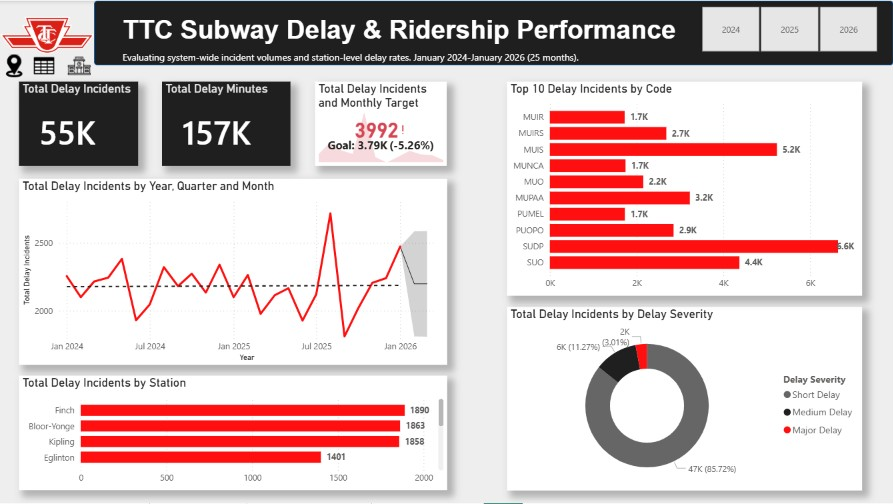

The page's visual inventory and layout, read from the dashboard file:
{"tool":"powerbi","page":{"name":"TTC Delays Dashboard","canvas":[1280,720],"ordinal":0},"visuals":[{"type":"image","box":[0,0,135,99.3],"z":0},{"type":"shape","box":[135,0,1145.1,92.7],"z":1000},{"type":"textbox","box":[170.8,13.9,808.1,65.5],"z":2000},{"type":"textbox","box":[170.8,65.5,734.7,27.8],"z":3000},{"type":"slicer","fields":{"Values":["Dim_Calendar.Year"]},"box":[979.2,1.6,300.9,78.1],"z":4000},{"type":"cardVisual","title":"Total Delay Incidents","fields":{"Data":["_Measure Table.Total Delay Incidents"]},"box":[27.7,115.5,170.8,120.4],"z":5000},{"type":"cardVisual","title":"Total Delay Minutes","fields":{"Data":["_Measure Table.Total Delay Minutes"]},"box":[232.6,115.5,183.8,120.4],"z":6000},{"type":"kpi","title":"Total Delay Incidents and Monthly Target ","fields":{"Goal":["_Measure Table.Monthly Target Delays"],"Indicator":["_Measure Table.Total Delay Incidents"],"TrendLine":["Dim_Calendar.Month Name"]},"box":[450.6,115.5,188.7,120.4],"z":7000},{"type":"lineChart","fields":{"Category":["Dim_Calendar.Start of Month"],"Y":["_Measure Table.Total Delay Incidents"]},"box":[27.7,255.4,613.2,266.8],"z":8000},{"type":"clusteredBarChart","fields":{"Category":["Dim_Stations.Station"],"Y":["_Measure Table.Total Delay Incidents"]},"box":[27.7,536.8,613.2,164.3],"z":9000},{"type":"donutChart","fields":{"Category":["Fact_TTC_Delays.Delay Severity"],"Y":["_Measure Table.Total Delay Incidents"]},"box":[726.2,438.3,508.5,263.6],"z":10000},{"type":"clusteredBarChart","title":"Top 10 Delay Incidents by Code","fields":{"Category":["Fact_TTC_Delays.Code"],"Y":["_Measure Table.Total Delay Incidents"]},"box":[726.2,116,508.5,306.5],"z":11000},{"type":"actionButton","box":[3.3,74.8,50.4,34.2],"z":14000},{"type":"actionButton","box":[84.6,73.2,86.2,35.8],"z":14001}]}

Visuals, with their boxes in screenshot pixels (x1, y1, x2, y2), scaled from the page's 1280x720 canvas onto the 893x504 screenshot:
image: pyautogui.locateOnScreen(0, 0, 94, 70)
shape: pyautogui.locateOnScreen(94, 0, 892, 65)
textbox: pyautogui.locateOnScreen(119, 10, 683, 56)
textbox: pyautogui.locateOnScreen(119, 46, 632, 65)
slicer - Dim_Calendar.Year: pyautogui.locateOnScreen(683, 1, 892, 56)
"Total Delay Incidents" cardVisual: pyautogui.locateOnScreen(19, 81, 138, 165)
"Total Delay Minutes" cardVisual: pyautogui.locateOnScreen(162, 81, 291, 165)
"Total Delay Incidents and Monthly Target " kpi: pyautogui.locateOnScreen(314, 81, 446, 165)
lineChart - Dim_Calendar.Start of Month x _Measure Table.Total Delay Incidents: pyautogui.locateOnScreen(19, 179, 447, 366)
clusteredBarChart - Dim_Stations.Station x _Measure Table.Total Delay Incidents: pyautogui.locateOnScreen(19, 376, 447, 491)
donutChart - Fact_TTC_Delays.Delay Severity x _Measure Table.Total Delay Incidents: pyautogui.locateOnScreen(507, 307, 861, 491)
"Top 10 Delay Incidents by Code" clusteredBarChart: pyautogui.locateOnScreen(507, 81, 861, 296)
actionButton: pyautogui.locateOnScreen(2, 52, 37, 76)
actionButton: pyautogui.locateOnScreen(59, 51, 119, 76)
